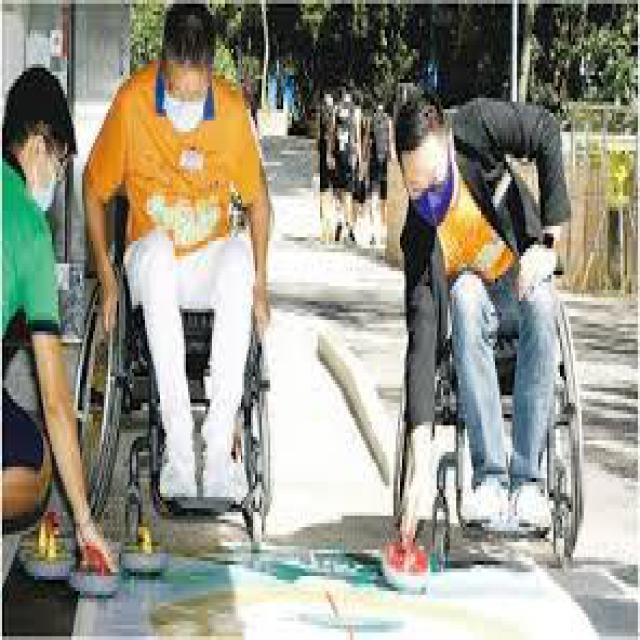wheelchairs: (74, 143, 296, 576), (396, 225, 599, 602)
